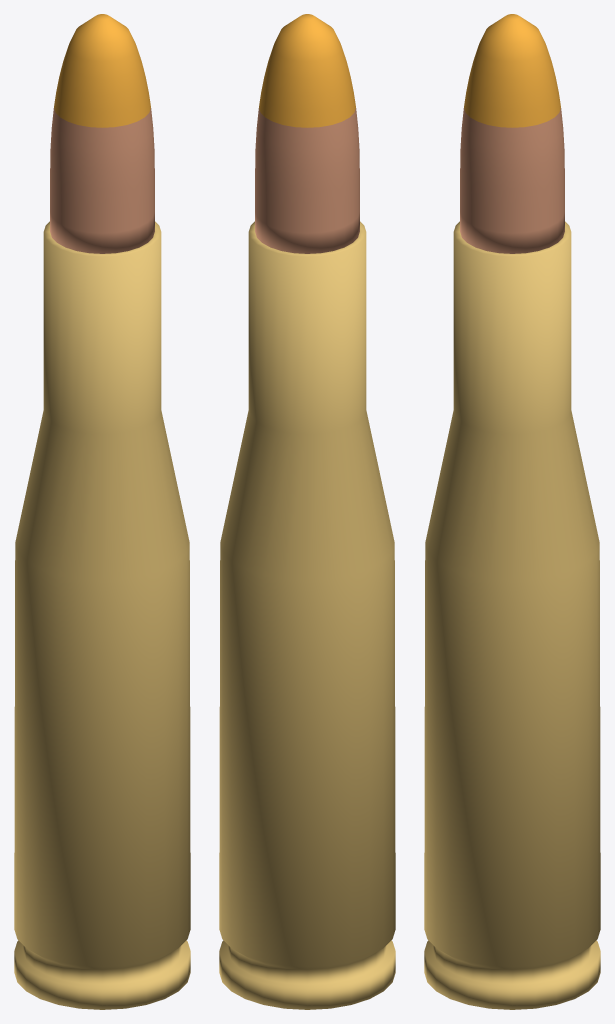
The picture shows the model from 3 angles, left to right: view 1: azimuth 30°, elevation 25°; view 2: azimuth 150°, elevation 25°; view 3: azimuth 270°, elevation 25°; orthographic projection.
Visible parts, largest first — view 1: vaina, bala_cuerpo, punta; view 2: vaina, bala_cuerpo, punta; view 3: vaina, bala_cuerpo, punta.
Part boxes in pixels (<box>): vaina: <box>14,221,190,1009</box>; bala_cuerpo: <box>50,108,154,253</box>; punta: <box>54,14,150,127</box>; vaina: <box>219,221,395,1009</box>; bala_cuerpo: <box>255,108,359,253</box>; punta: <box>259,14,355,127</box>; vaina: <box>424,221,600,1009</box>; bala_cuerpo: <box>460,108,564,253</box>; punta: <box>464,14,560,127</box>.
Bounding box in the file's own units: 0.0096 × 0.0574 × 0.0096.
